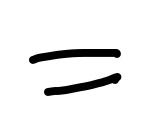eqv: (29, 49, 121, 96)
